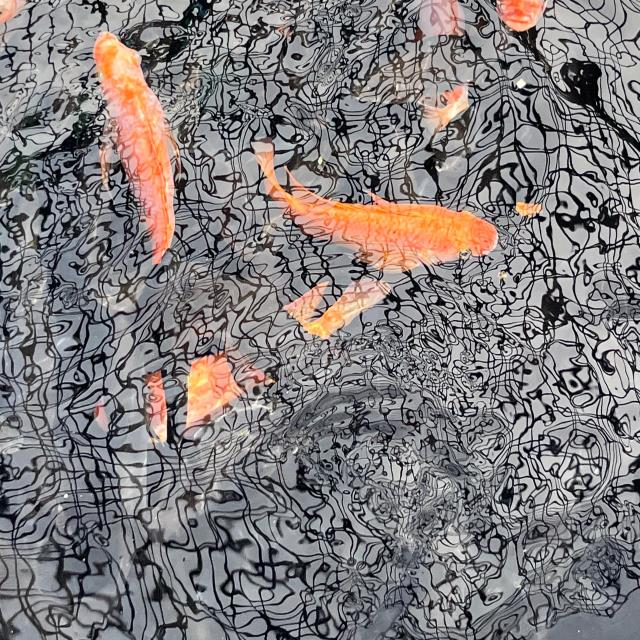ikan: (249, 146, 513, 278), (87, 29, 188, 259)
